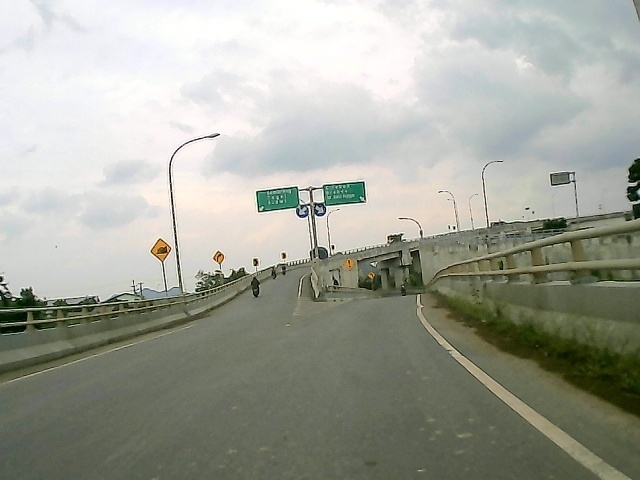Hati-hati: (343, 257, 357, 273)
Jalanan menanjak: (151, 236, 171, 262)
Tikungan ke kanan: (214, 250, 226, 266)
